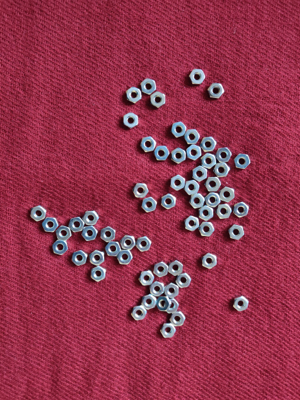nut: (207, 82, 225, 100), (140, 136, 157, 154), (234, 152, 251, 170), (189, 68, 206, 85), (140, 78, 157, 95), (126, 87, 143, 104), (153, 145, 170, 162), (205, 176, 222, 193), (201, 253, 218, 270), (30, 205, 47, 222), (72, 250, 89, 267), (171, 147, 187, 165), (215, 147, 233, 163), (132, 183, 150, 199), (142, 196, 158, 214), (120, 234, 136, 252), (123, 112, 139, 129), (184, 128, 200, 145), (186, 144, 202, 161), (201, 153, 217, 170), (213, 162, 230, 178), (192, 166, 209, 182), (170, 175, 186, 192), (161, 193, 177, 210), (233, 202, 250, 218), (198, 206, 215, 222), (199, 221, 215, 238), (229, 225, 246, 241), (233, 296, 249, 313), (168, 260, 184, 277), (164, 282, 180, 299), (138, 270, 155, 286), (140, 295, 157, 311), (156, 296, 172, 313), (105, 241, 122, 257), (101, 226, 117, 243), (82, 226, 99, 242), (43, 217, 59, 234), (53, 239, 69, 256), (82, 211, 100, 226), (150, 92, 166, 108), (171, 122, 187, 138), (205, 192, 221, 208), (216, 204, 232, 220), (176, 273, 192, 289), (149, 281, 165, 297), (136, 236, 152, 252), (69, 217, 85, 233), (91, 266, 107, 282), (201, 137, 218, 152), (185, 215, 200, 232), (56, 225, 71, 242), (90, 249, 105, 266), (185, 180, 200, 196), (220, 186, 235, 202), (131, 306, 147, 321), (170, 312, 186, 327), (161, 323, 177, 338), (117, 250, 133, 265), (190, 194, 205, 209), (164, 299, 179, 314)
